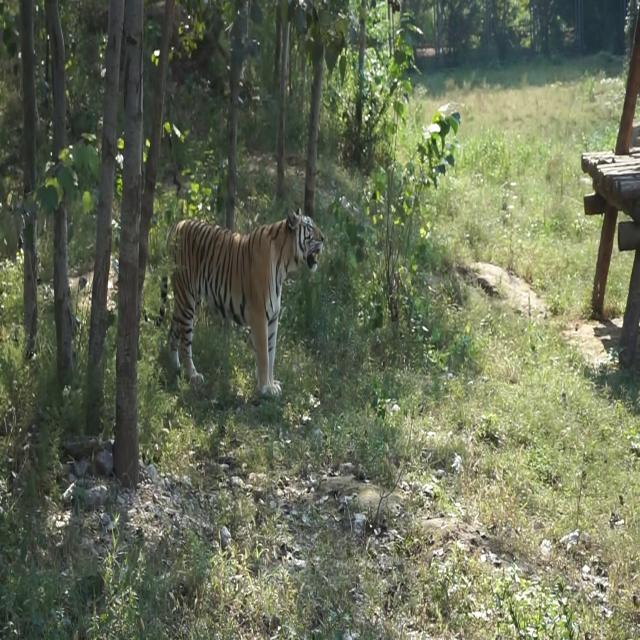Tiger: (158, 201, 336, 396)
